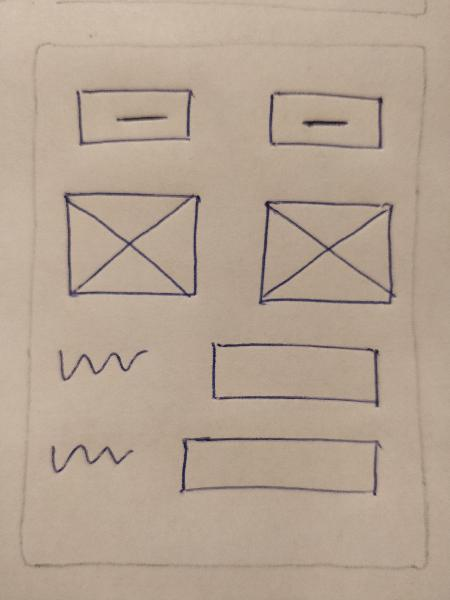button: (260, 79, 390, 164), (69, 79, 198, 159)
image: (56, 188, 207, 305), (247, 195, 398, 312)
text: (48, 338, 153, 388), (39, 436, 144, 486)
text_input: (171, 427, 392, 501), (201, 337, 388, 410)
